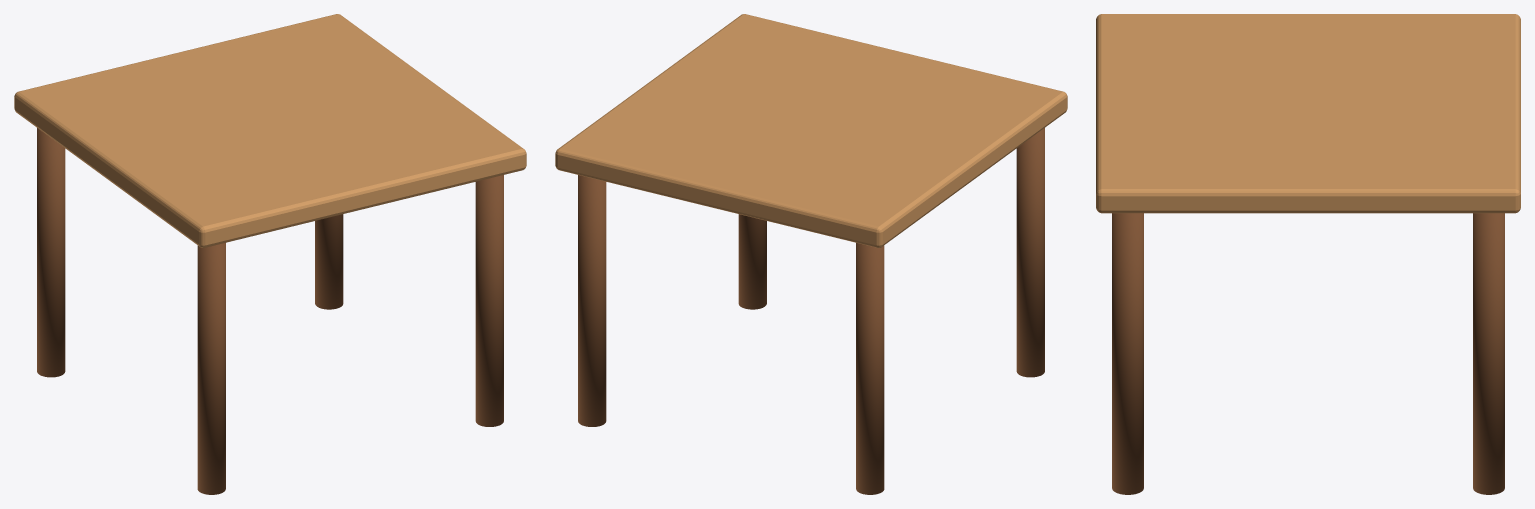
Rendered from side_table.glb.
3 renders of one model, left to right at view 1: azimuth 30°, elevation 25°; view 2: azimuth 150°, elevation 25°; view 3: azimuth 270°, elevation 25°, orthographic. The views are drawn at different scales.
Visible parts, largest first — view 1: top, leg.001, leg.003, leg, leg.002; view 2: top, leg, leg.002, leg.001, leg.003; view 3: top, leg.002, leg.003.
Part boxes in pixels (box(x1,y1,x2,y2)): top: box(14, 14, 526, 247); leg.001: box(197, 243, 225, 494); leg.003: box(475, 175, 503, 426); leg: box(37, 128, 65, 377); leg.002: box(315, 214, 343, 309); top: box(555, 14, 1067, 247); leg: box(856, 243, 884, 494); leg.002: box(578, 175, 606, 426); leg.001: box(1016, 128, 1044, 377); leg.003: box(738, 214, 766, 309); top: box(1096, 14, 1520, 213); leg.002: box(1473, 213, 1504, 494); leg.003: box(1112, 213, 1143, 494).
Size of the model in its own units: 0.8 by 0.645 by 0.8.
